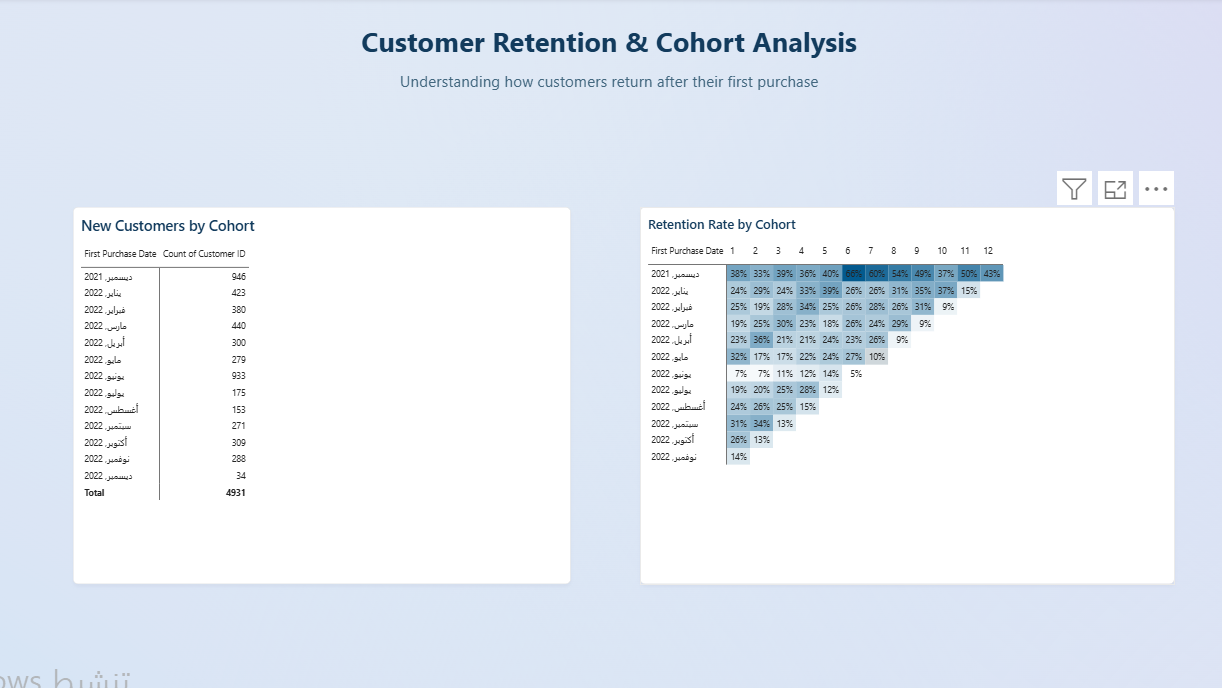

The dashboard page shown, as its layout file describes it:
{"tool":"powerbi","page":{"name":"Customer Retention ","canvas":[1920,1080],"ordinal":0},"visuals":[{"type":"pivotTable","title":"New Customers by Cohort","fields":{"Values":["Count(Sales.Customer ID)"],"Rows":["Sales.First Purchase Date"]},"box":[121.7,329.3,777.8,589.3],"z":0},{"type":"pivotTable","title":"Retention Rate by Cohort","fields":{"Columns":["Months After Purchase.Value"],"Rows":["Sales.First Purchase Date"],"Values":["Months After Purchase.Customer Retention Rate %"]},"box":[1009.2,329.3,835.1,589.3],"z":1000},{"type":"textbox","box":[253.2,39.9,1413.7,159.4],"z":2000}]}

Visuals, with their boxes in screenshot pixels (x1, y1, x2, y2), scaled from the page's 1920x1080 canvas onto the 1222x688 screenshot:
"New Customers by Cohort" pivotTable: [77, 210, 572, 585]
"Retention Rate by Cohort" pivotTable: [642, 210, 1174, 585]
textbox: [161, 25, 1061, 127]
